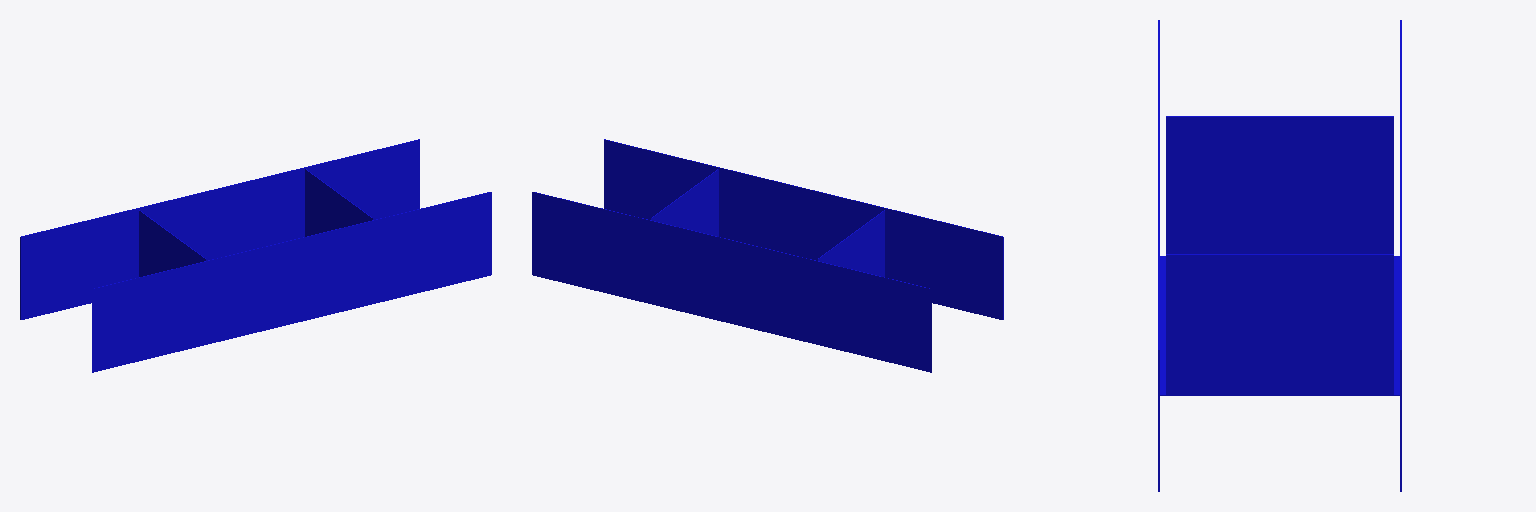
The robot description file, URDF, robot "small_box":
<robot name="small_box">
  <material name="blue">
    <color rgba="0.1 0.1 0.9 1"/>
  </material>
  <link name="base_link">

    <!-- Bottom panel (floor of the box) -->
    <visual>
      <origin xyz="0 0 0.0005" rpy="0 0 0"/>
      <geometry>
        <box size="0.21 0.156 0.001"/>
      </geometry>
      <material name="blue"/>
    </visual>
    <collision>
      <origin xyz="0 0 0.0005" rpy="0 0 0"/>
      <geometry>
        <box size="0.21 0.156 0.001"/>
      </geometry>
    </collision>

    <!-- Front wall -->
    <visual>
      <origin xyz="0 0.0775 0.05" rpy="0 0 0"/>
      <geometry>
        <!-- <box size="0.20 0.001 0.1"/> -->
        <box size="0.5 0.001 0.1"/>
      </geometry>
      <material name="blue"/>
    </visual>
    <collision>
      <origin xyz="0 0.0775 0.05" rpy="0 0 0"/>
      <geometry>
        <box size="0.5 0.001 0.1"/>
      </geometry>
    </collision>

    <!-- Back wall -->
    <visual>
      <origin xyz="0 -0.0775 0.05" rpy="0 0 0"/>
      <geometry>
        <box size="0.5 0.001 0.1"/>
      </geometry>
      <material name="blue"/>
    </visual>
    <collision>
      <origin xyz="0 -0.0775 0.05" rpy="0 0 0"/>
      <geometry>
        <box size="0.5 0.001 0.1"/>
      </geometry>
    </collision>

    <!-- Right wall -->
    <visual>
      <origin xyz="0.1045 0 0.05" rpy="0 0 0"/>
      <geometry>
        <box size="0.001 0.146 0.1"/>
      </geometry>
      <material name="blue"/>
    </visual>
    <collision>
      <origin xyz="0.1045 0 0.05" rpy="0 0 0"/>
      <geometry>
        <box size="0.001 0.146 0.1"/>
      </geometry>
    </collision>

    <!-- Left wall -->
    <visual>
      <origin xyz="-0.1045 0 0.05" rpy="0 0 0"/>
      <geometry>
        <box size="0.001 0.146 0.1"/>
      </geometry>
      <material name="blue"/>
    </visual>
    <collision>
      <origin xyz="-0.1045 0 0.05" rpy="0 0 0"/>
      <geometry>
        <box size="0.001 0.146 0.1"/>
      </geometry>
    </collision>

  </link>
  <!-- The link and joint below are required to bypass a bug in setRootJointPosition in hpp-manipulation -->
  <link name="fake_base_link"/>
  <joint name="fake_joint" type="fixed">
  <parent link="fake_base_link"/>
  <child link="base_link"/>
  </joint>
</robot>

--- What the picture shows (computed from the rendered views, not written in the file) ---
3 views of the same robot in one strip: view 1: azimuth 30°, elevation 25°; view 2: azimuth 150°, elevation 25°; view 3: azimuth 270°, elevation 25° (orthographic).
Robot: small_box — 2 links, 1 joints (1 fixed); root link fake_base_link; default pose: every joint at zero.
Links seen in each view (by area): view 1: base_link; view 2: base_link; view 3: base_link.
Link boxes in pixels (x1,y1,x2,y2): base_link: (20, 139, 491, 372); base_link: (532, 139, 1003, 372); base_link: (1158, 20, 1401, 491).
Bounding box of the posed robot: 0.5 × 0.156 × 0.1 m (x, y, z).
Geometry: primitives only (box / cylinder / sphere), no mesh files.
